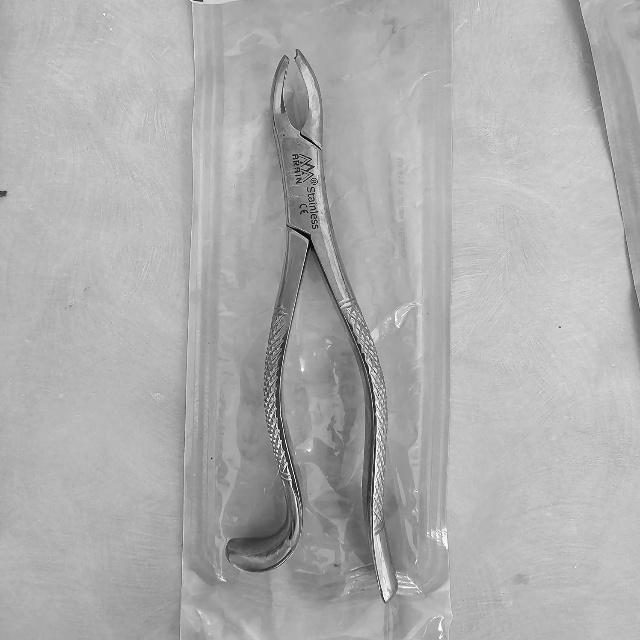forceps: (231, 50, 403, 609)
